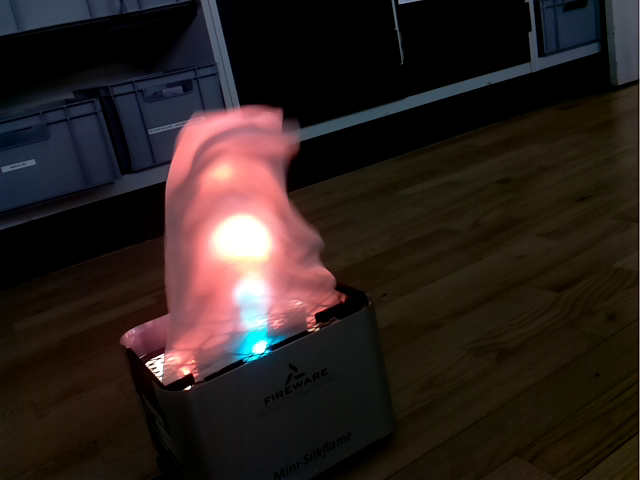fire: (161, 104, 343, 386)
